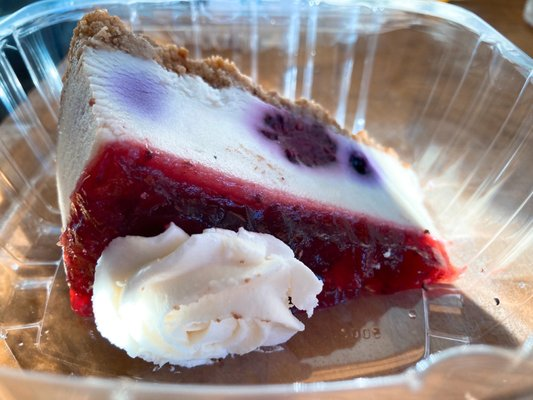soup: (53, 6, 476, 370)
